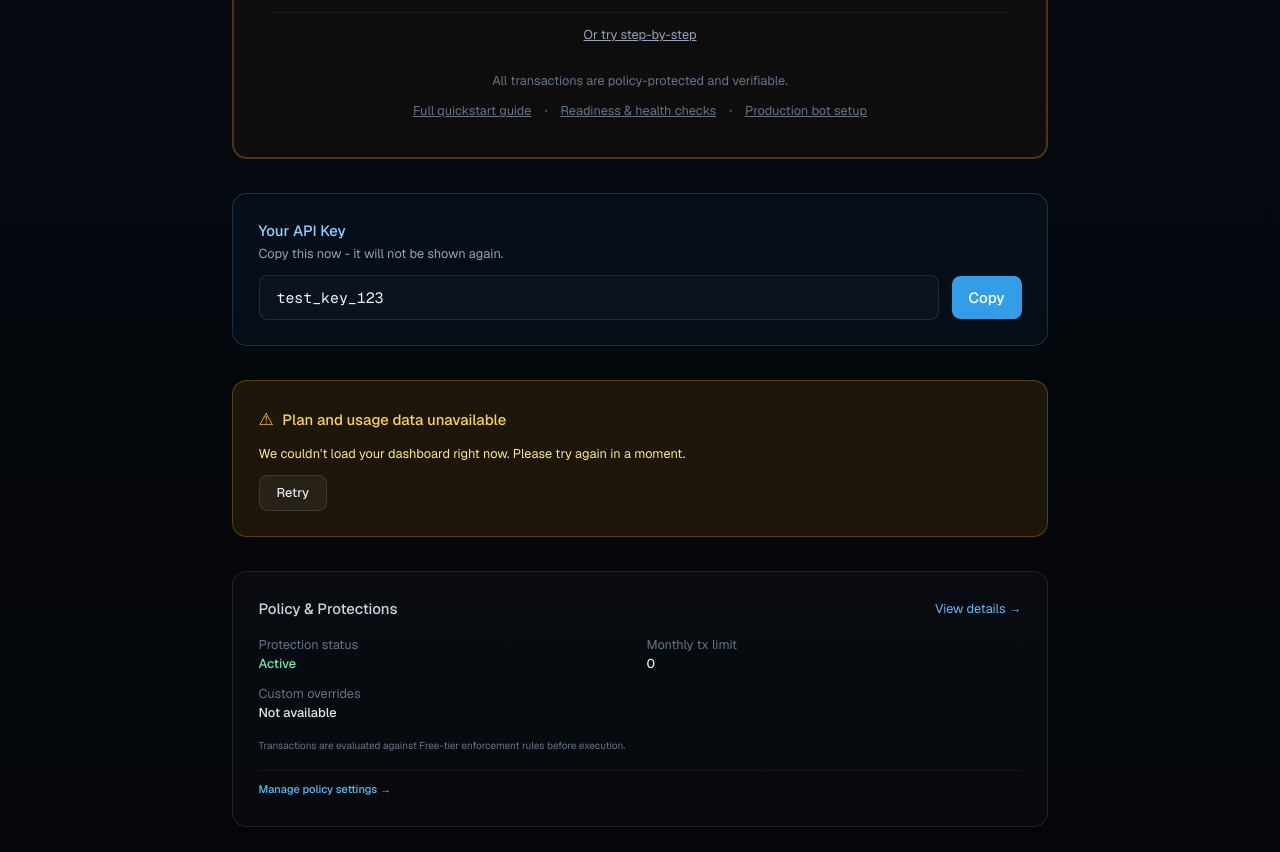
Test: CustomerDashboardPage — scoped error handling › clears the scoped dashboard error after a successful retry
The width and height of the screenshot is (1280, 852).
(page scrolled)
Expected: the heading "Plan and usage data unavailable" is shown, 282,409 -> 506,430
What coordinates should you click on to do the following:
click the button "Retry"
I would click on:
 (293, 492)
Its box is 258,474 -> 327,510.
(page scrolled)
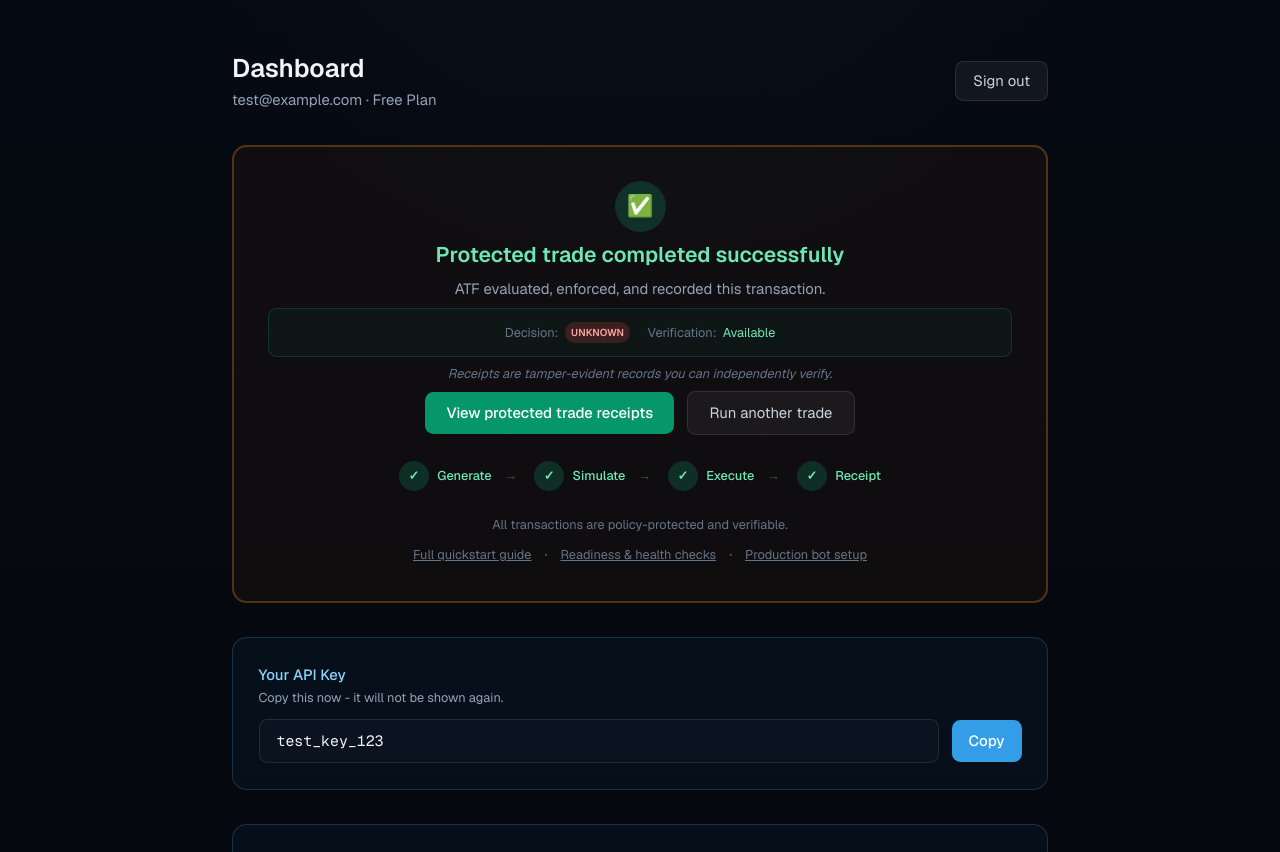
Expected: the text "test@example.com · free plan" is shown, 232,89 -> 437,111
Expected: the heading "Plan and usage data unavailable" is gone
